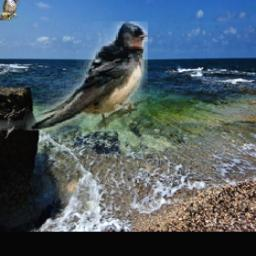Sparrow: (0, 0, 22, 20)
Swallow: (0, 21, 148, 130)
